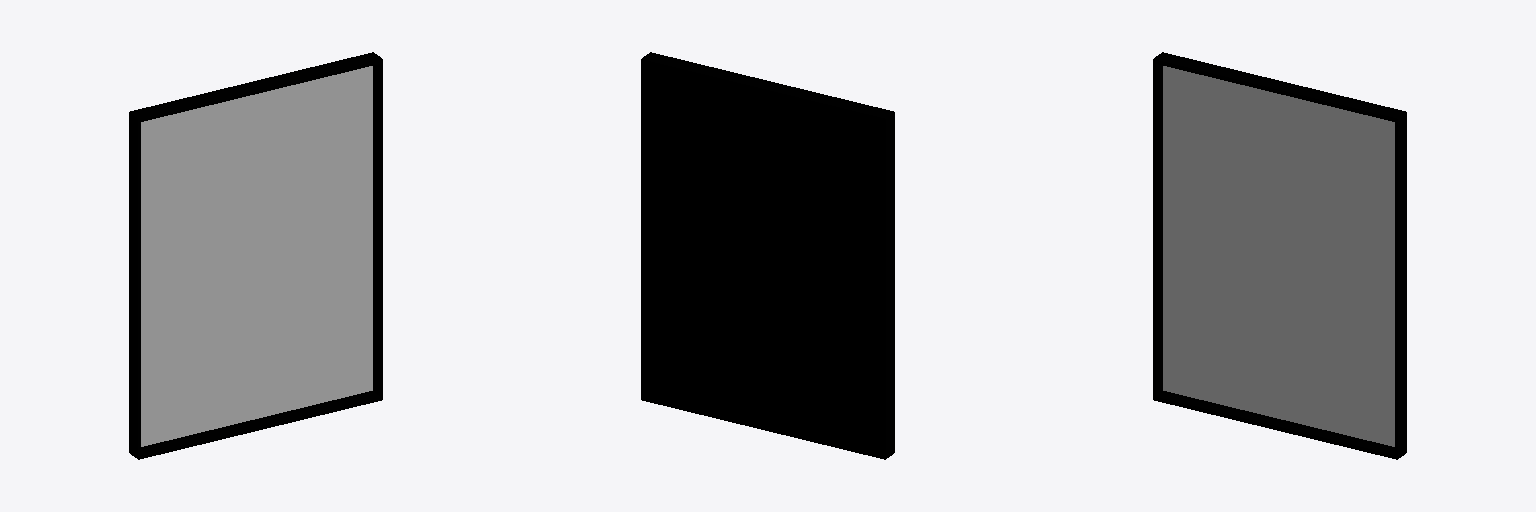
Rendered from Khung_anh_doc.obj.
3 renders of one model, left to right at view 1: azimuth 30°, elevation 25°; view 2: azimuth 150°, elevation 25°; view 3: azimuth 330°, elevation 25°, orthographic.
Visible parts, largest first — view 1: Plane, Cube; view 2: Cube; view 3: Plane, Cube.
Boxes of the visible parts, <box> form: Plane: <box>141,66,372,446</box>; Cube: <box>129,52,382,459</box>; Cube: <box>641,52,894,459</box>; Plane: <box>1163,66,1394,446</box>; Cube: <box>1153,52,1406,459</box>.
Bounding box in the file's own units: 0.3 × 0.4 × 0.02.